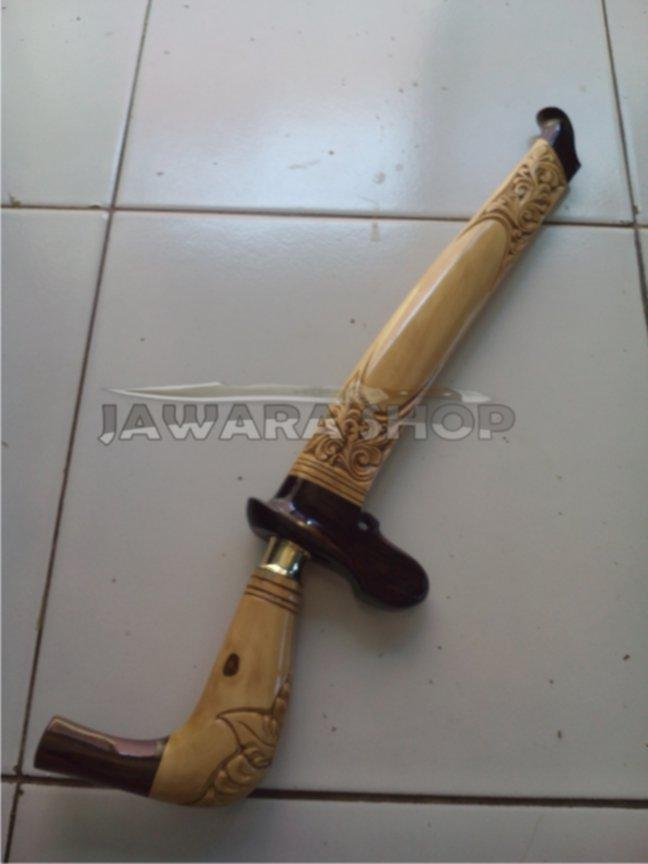espada: (99, 107, 579, 805)
